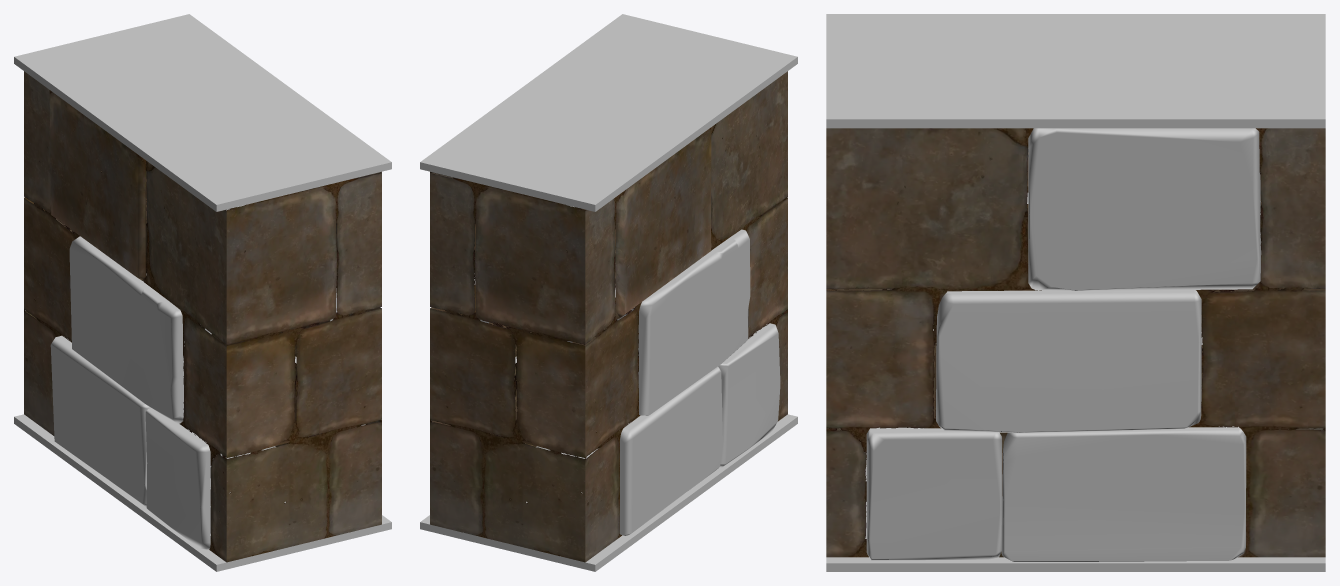
The picture shows the model from 3 angles, left to right: view 1: azimuth 30°, elevation 25°; view 2: azimuth 150°, elevation 25°; view 3: azimuth 270°, elevation 25°; orthographic projection. The views are drawn at different scales.
Visible parts, largest first — view 1: SM_DK_4m_Wall_01_LOD0; view 2: SM_DK_4m_Wall_01_LOD0; view 3: SM_DK_4m_Wall_01_LOD0.
Boxes of the visible parts, left/top/right/bottom form: SM_DK_4m_Wall_01_LOD0: left=14, top=14, right=391, bottom=571; SM_DK_4m_Wall_01_LOD0: left=420, top=14, right=797, bottom=571; SM_DK_4m_Wall_01_LOD0: left=826, top=14, right=1325, bottom=571.
Size of the model in its own units: 2.03 by 4 by 4.
